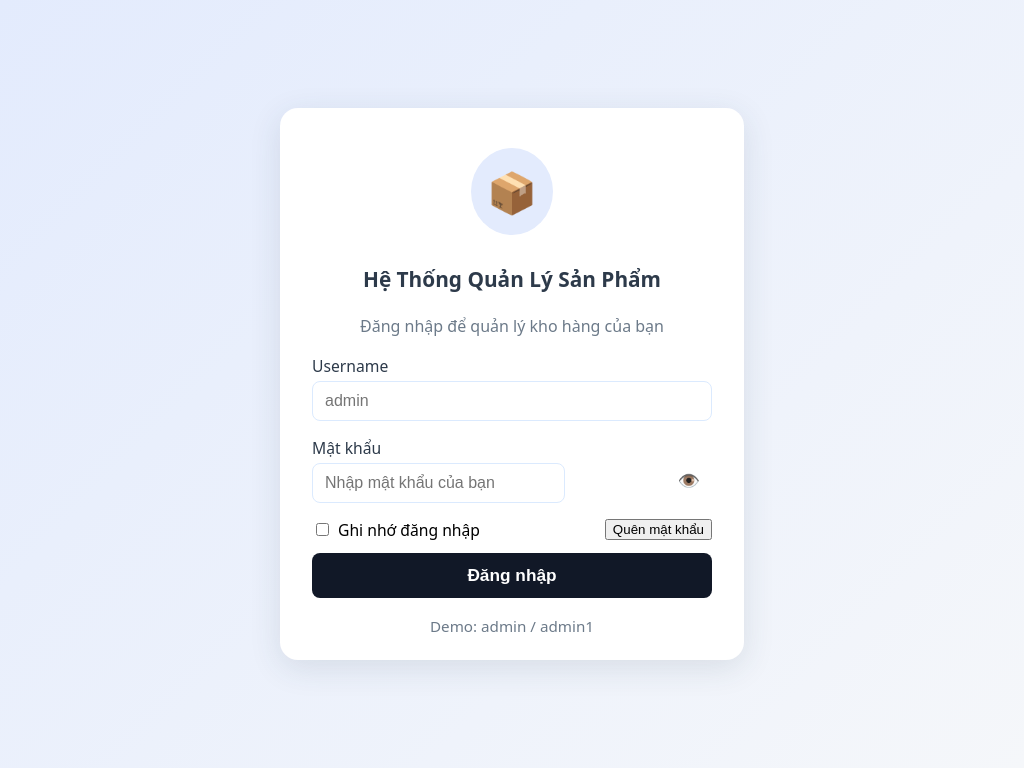
Login E2E Tests › should show password required error
The width and height of the screenshot is (1024, 768).
In the field with id "username": point(512, 401) [312,381,712,421], type "testuser"
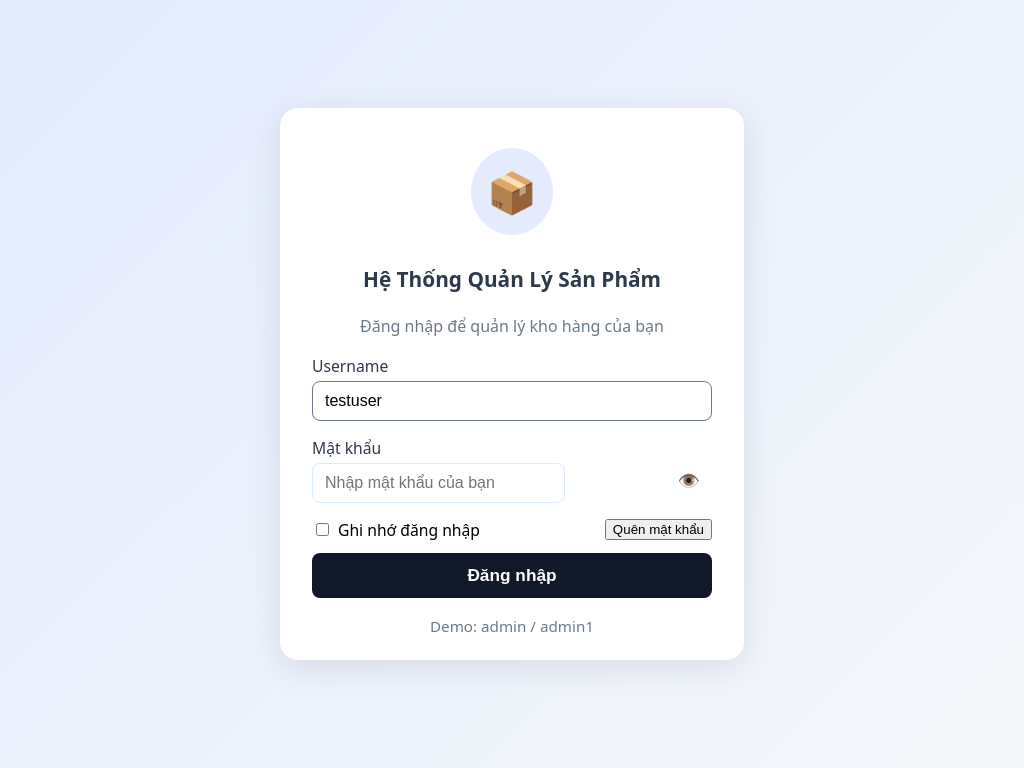
Click the button with id "loginBtn": point(512, 576) [312,553,712,598]
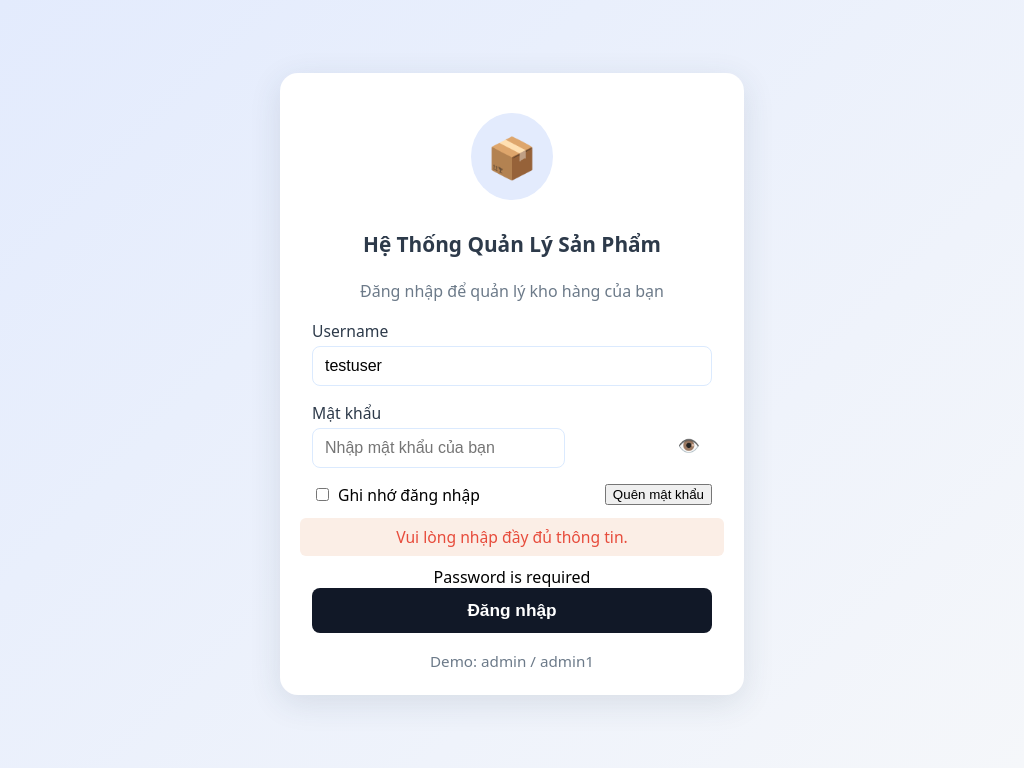
Now the message with class "error-message" reads "Password is required", box [434,566,591,588]
